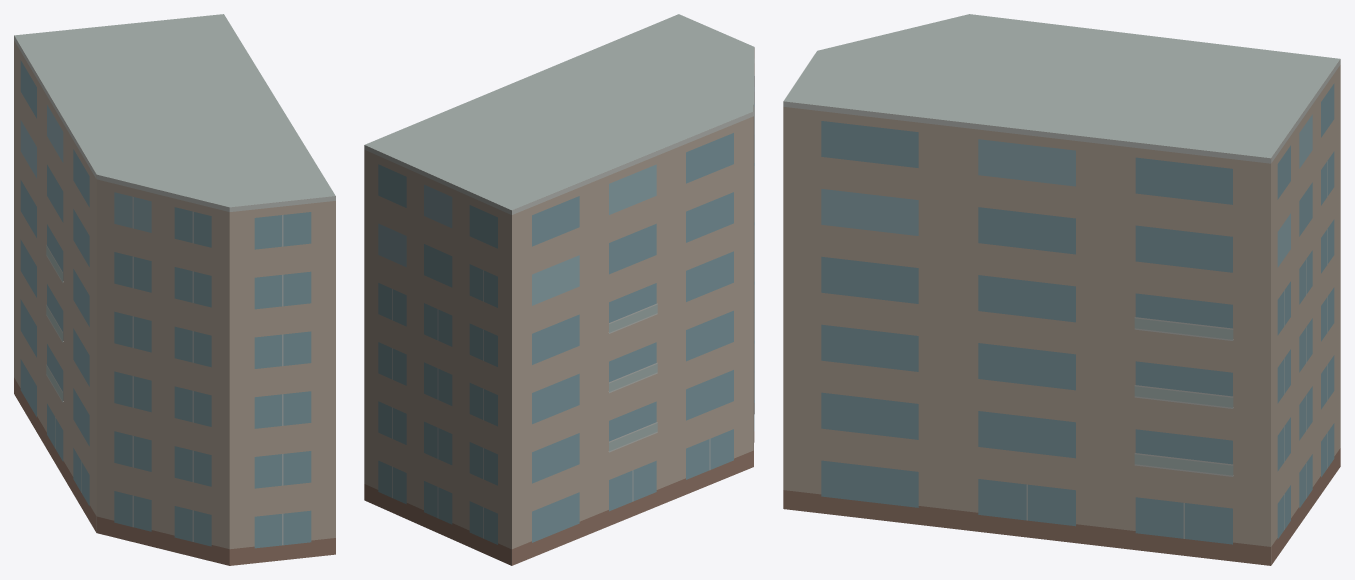
Rendered from survey-upis-32734320.glb.
3 views of the same model, side by side, from view 1: azimuth 30°, elevation 25°; view 2: azimuth 150°, elevation 25°; view 3: azimuth 270°, elevation 25° (orthographic). The views are drawn at different scales.
Visible parts, largest first — view 1: survey-upis-32734320.tmp; view 2: survey-upis-32734320.tmp; view 3: survey-upis-32734320.tmp.
Part boxes in pixels (x1,y1,x2,y2): survey-upis-32734320.tmp: [14, 14, 335, 565]; survey-upis-32734320.tmp: [364, 14, 754, 565]; survey-upis-32734320.tmp: [783, 14, 1340, 565].
Size of the model in its own units: 13.9 by 18.3 by 22.69.
